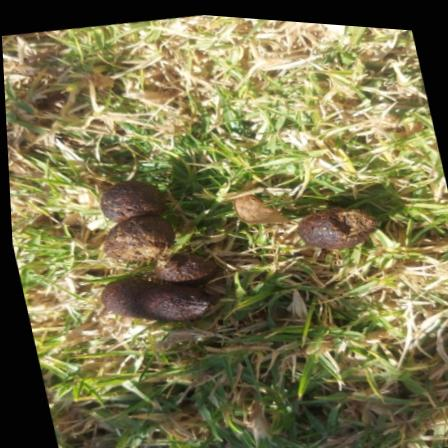dog-poop: (70, 155, 232, 342), (282, 180, 398, 269)
